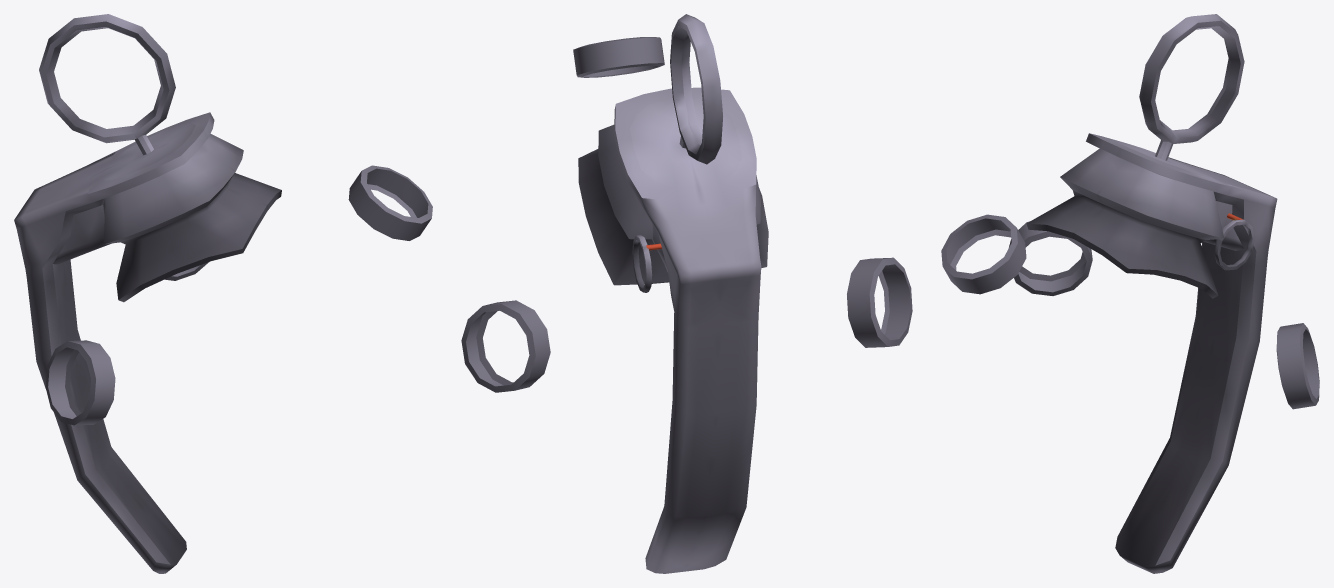
The model's file is Grenade.fbx.
3 views of the same model, side by side, from view 1: azimuth 30°, elevation 25°; view 2: azimuth 150°, elevation 25°; view 3: azimuth 270°, elevation 25° (orthographic). The views are drawn at different scales.
Parts seen in each view (by area): view 1: Clothes; view 2: Clothes; view 3: Clothes.
Boxes of the visible parts, box(x1,y1,x2,y2) form: Clothes: box(14, 14, 432, 573); Clothes: box(461, 14, 912, 573); Clothes: box(941, 14, 1319, 573).
Bounding box in the file's own units: 1.38 × 2.15 × 1.38.
